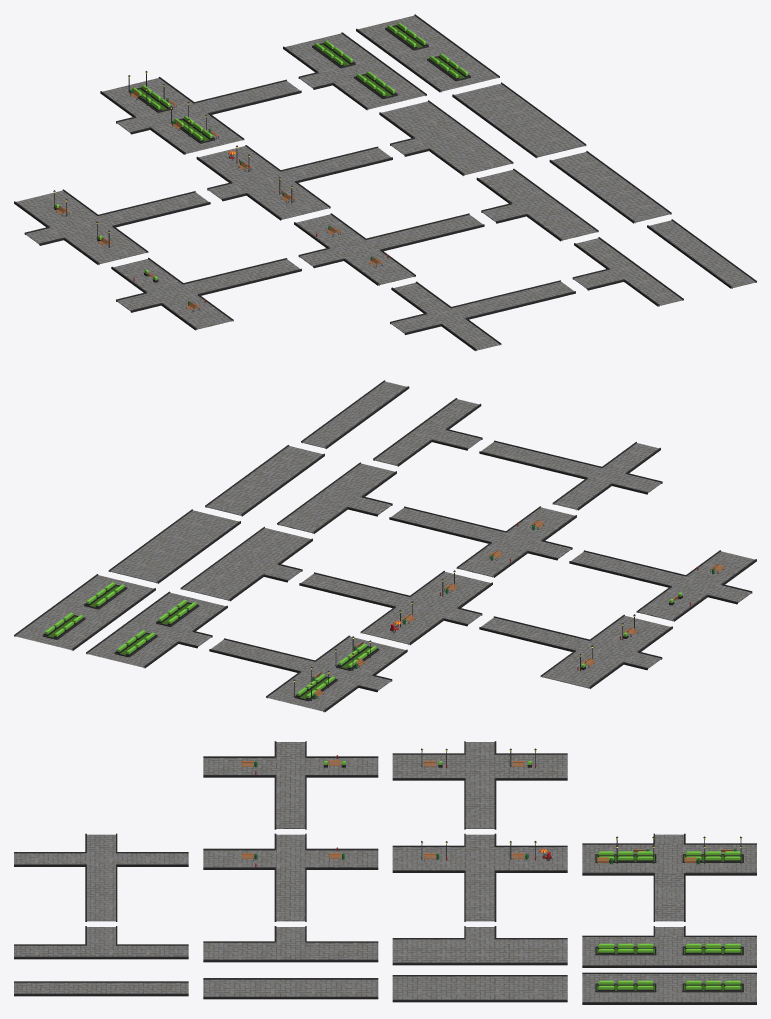
Rendered from street.fbx.
3 views of the same model, one above another, from view 1: azimuth 30°, elevation 25°; view 2: azimuth 150°, elevation 25°; view 3: azimuth 270°, elevation 25° (orthographic). The views are drawn at different scales.
Parts seen in each view (by area): view 1: ROAD3.003, ROAD3, ROAD4, ROAD2, ROAD2.003, ROAD1, ROAD3.001, ROAD4.001, ROAD3.002, ROAD4.002, ROAD2.001, ROAD2.002 (+6 smaller); view 2: ROAD3.003, ROAD3, ROAD4, ROAD2, ROAD2.003, ROAD1, ROAD3.001, ROAD4.001, ROAD3.002, ROAD4.002, ROAD2.001, ROAD2.002 (+6 smaller); view 3: ROAD3.003, ROAD3, ROAD4, ROAD2, ROAD2.003, ROAD3.001, ROAD1, ROAD3.002, ROAD4.001, ROAD4.002, ROAD2.001, ROAD2.002 (+9 smaller).
Boxes of the visible parts, box(x1,y1,x2,y2) form: ROAD3.003: box(14, 189, 210, 264); ROAD3: box(196, 145, 392, 220); ROAD4: box(100, 77, 301, 154); ROAD2: box(294, 213, 484, 285); ROAD2.003: box(111, 257, 301, 330); ROAD1: box(390, 280, 575, 350); ROAD3.001: box(379, 100, 513, 175); ROAD4.001: box(283, 32, 426, 110); ROAD3.002: box(452, 82, 586, 158); ROAD4.002: box(356, 14, 499, 92); ROAD2.001: box(476, 168, 598, 241); ROAD2.002: box(549, 151, 671, 223); ROAD3.003: box(479, 614, 672, 688); ROAD3: box(299, 570, 492, 645); ROAD4: box(209, 635, 407, 712); ROAD2: box(389, 506, 576, 577); ROAD2.003: box(569, 550, 756, 621); ROAD1: box(479, 440, 662, 510); ROAD3.001: box(180, 526, 312, 601); ROAD4.001: box(86, 591, 227, 668); ROAD3.002: box(108, 509, 240, 583); ROAD4.002: box(14, 574, 155, 650); ROAD2.001: box(277, 462, 396, 533); ROAD2.002: box(205, 445, 324, 516); ROAD3.003: box(392, 741, 567, 829); ROAD3: box(392, 833, 567, 921); ROAD4: box(582, 833, 756, 921); ROAD2: box(203, 833, 378, 921); ROAD2.003: box(203, 741, 378, 829); ROAD3.001: box(392, 926, 567, 965); ROAD1: box(14, 833, 188, 921); ROAD3.002: box(392, 975, 567, 1002); ROAD4.001: box(582, 926, 756, 967); ROAD4.002: box(582, 972, 756, 1004); ROAD2.001: box(203, 926, 378, 962); ROAD2.002: box(203, 978, 378, 999).
Bounding box in the file's own units: 4245 × 150 × 5100.
15 materials, 1 textured.
